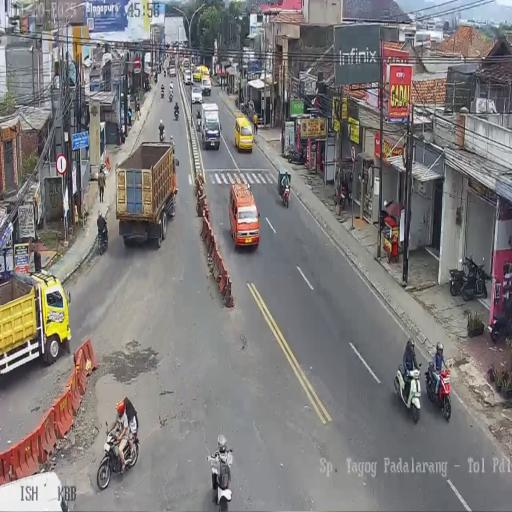car: (228, 181, 259, 250), (200, 103, 220, 151), (234, 114, 254, 153), (201, 77, 211, 97), (191, 86, 202, 104), (193, 67, 202, 82), (180, 56, 188, 72), (184, 69, 191, 84), (169, 65, 176, 77)
motorcycle: (96, 424, 139, 490), (449, 251, 488, 301), (208, 441, 233, 511), (394, 361, 422, 423), (425, 359, 452, 421), (489, 303, 511, 342), (285, 144, 305, 164), (282, 178, 290, 208), (159, 127, 165, 142), (196, 117, 201, 133), (174, 106, 179, 120), (168, 90, 173, 102), (161, 86, 165, 99), (154, 72, 157, 84), (163, 67, 166, 77)
truck: (1, 270, 73, 382), (113, 138, 176, 249), (168, 51, 175, 64)
